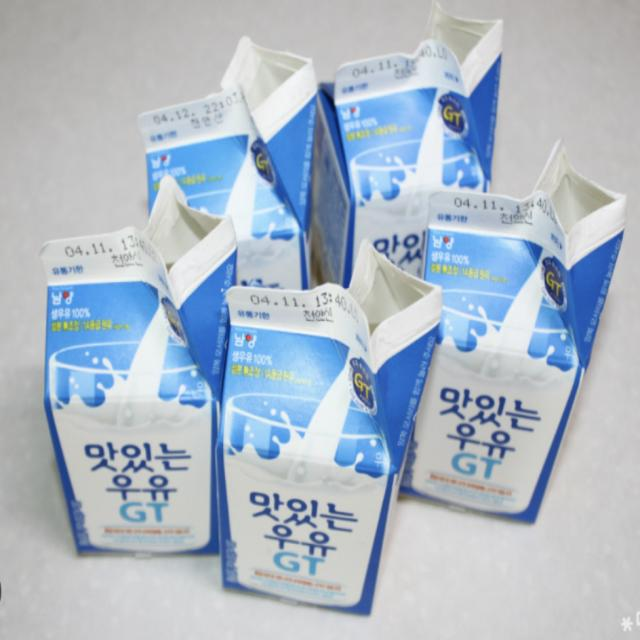biodegradable: (392, 123, 636, 544), (33, 163, 264, 576), (205, 234, 448, 622), (118, 16, 336, 294)
